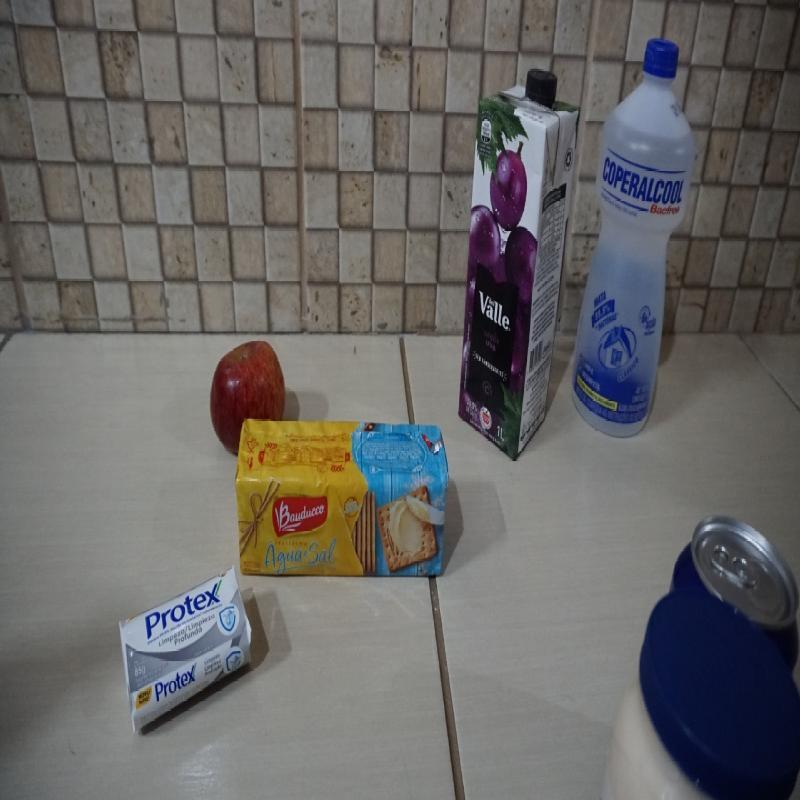Alcohol Bottle: (568, 34, 694, 440)
Apple: (210, 339, 287, 461)
Cracker: (235, 416, 450, 578)
Mayonnaise: (602, 593, 800, 796)
Soap: (118, 568, 255, 743)
Soda can: (668, 514, 798, 670)
